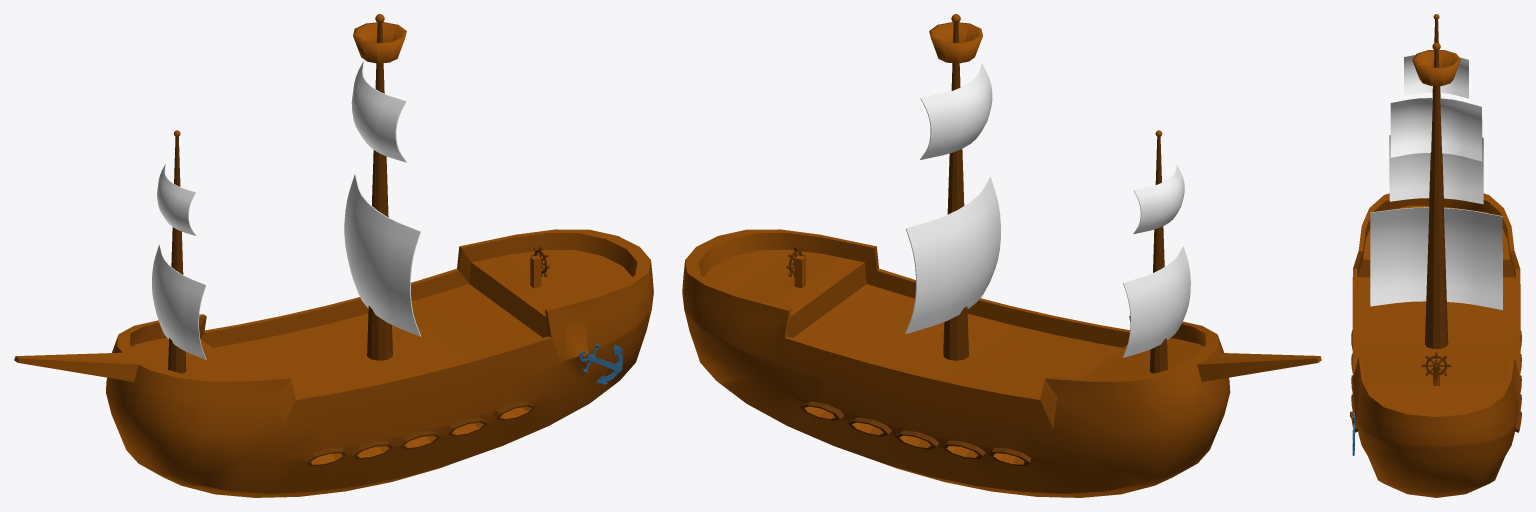
File: BarcoArreglado.fbx
3 views of the same model, side by side, from view 1: azimuth 30°, elevation 25°; view 2: azimuth 150°, elevation 25°; view 3: azimuth 270°, elevation 25° (orthographic). The views are drawn at different scales.
Parts seen in each view (by area): view 1: Cube, Plane, Plane.001, Circle, Cylinder, Circle.001, Circle.003; view 2: Cube, Plane, Plane.001, Circle, Cylinder, Circle.001; view 3: Cube, Plane, Plane.001, Circle, Cylinder, Circle.002, Circle.001.
Boxes of the visible parts, <box> form: Cube: <box>14,229,653,497</box>; Plane: <box>344,61,421,336</box>; Plane.001: <box>152,163,206,359</box>; Circle: <box>367,23,392,360</box>; Cylinder: <box>353,22,406,63</box>; Circle.001: <box>168,136,186,373</box>; Circle.003: <box>579,344,623,384</box>; Cube: <box>682,229,1321,497</box>; Plane: <box>905,63,1000,333</box>; Plane.001: <box>1122,165,1190,357</box>; Circle: <box>943,23,968,360</box>; Cylinder: <box>929,22,982,63</box>; Circle.001: <box>1149,136,1167,373</box>; Cube: <box>1350,193,1521,497</box>; Plane: <box>1370,97,1502,309</box>; Plane.001: <box>1389,54,1483,204</box>; Circle: <box>1425,50,1448,348</box>; Cylinder: <box>1412,50,1460,85</box>; Circle.002: <box>1421,352,1450,379</box>; Circle.001: <box>1429,19,1444,207</box>.
Bounding box in the file's own units: 698 × 488 × 188.
